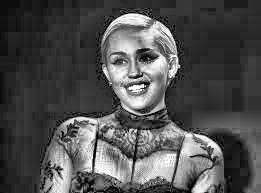happy: (97, 25, 200, 121)
